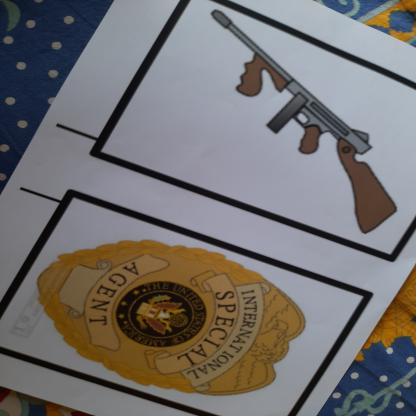Bootlegger: (183, 5, 407, 245)
G-man: (9, 232, 349, 396)
